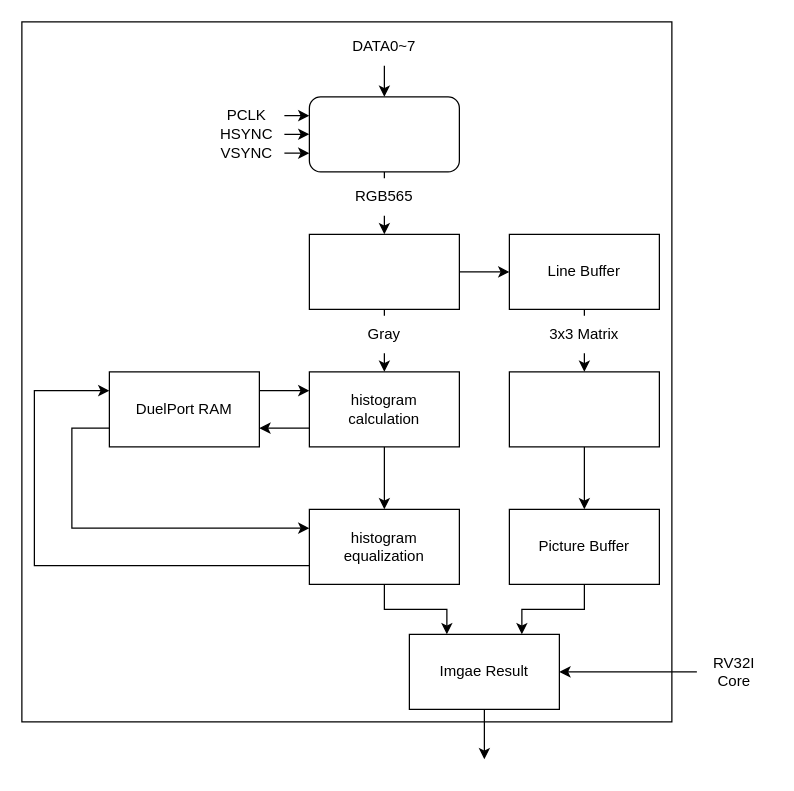
Some shapes in this 794 by 791 pixel diagram are drawn without their labels. Each missing label, with the centre of its shape:
RGB565 Timing Generator: the point at 383,134
rgv2hsv: the point at 383,271
Sobel Matrix Multiplier: the point at 583,409
